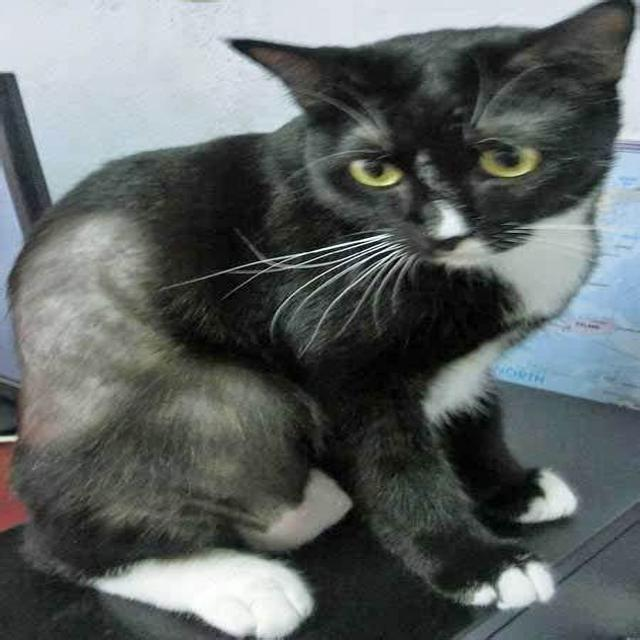hairloss: (18, 207, 138, 475)
